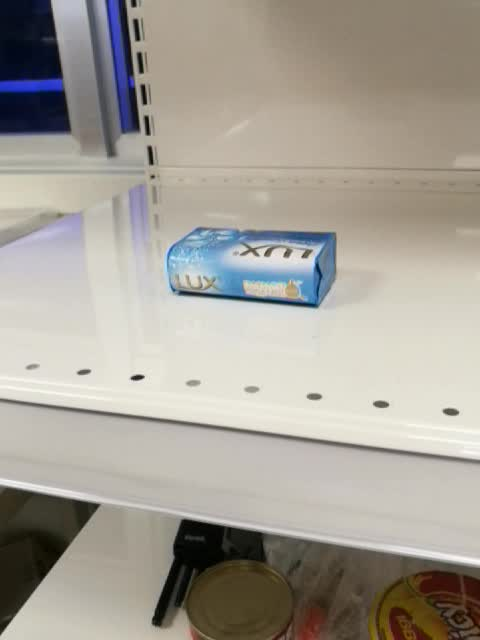soap: (166, 226, 339, 311)
